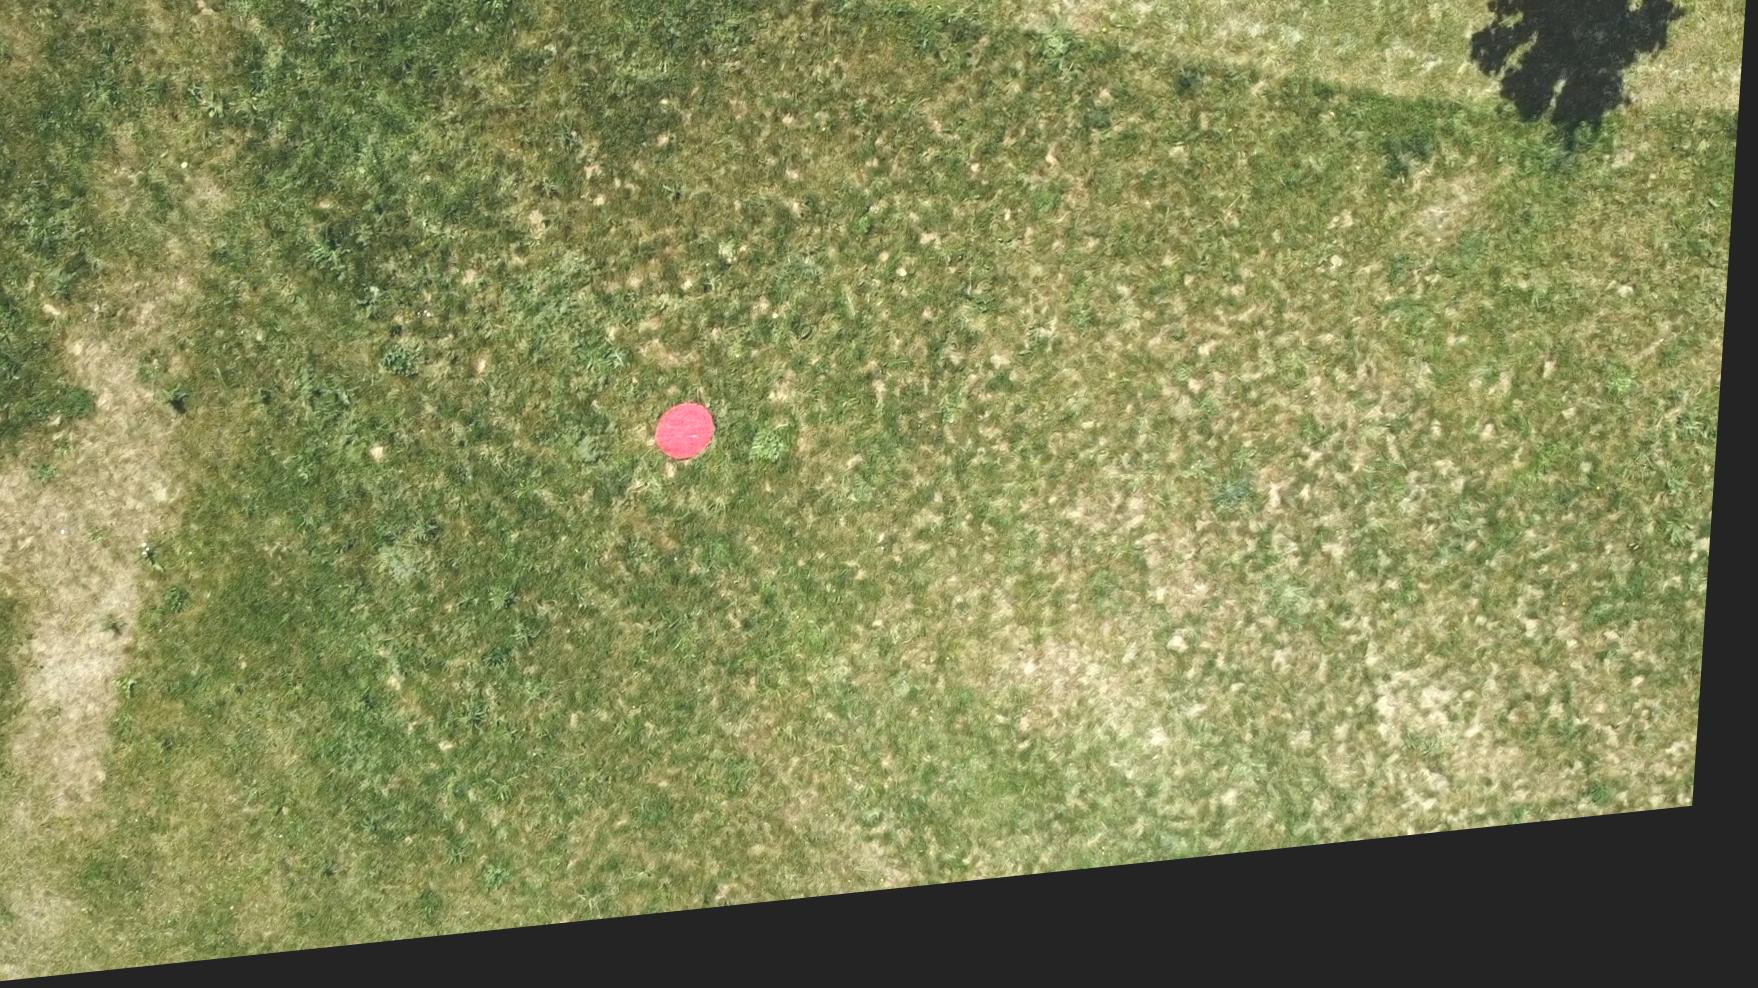Red: (659, 413, 727, 481)
